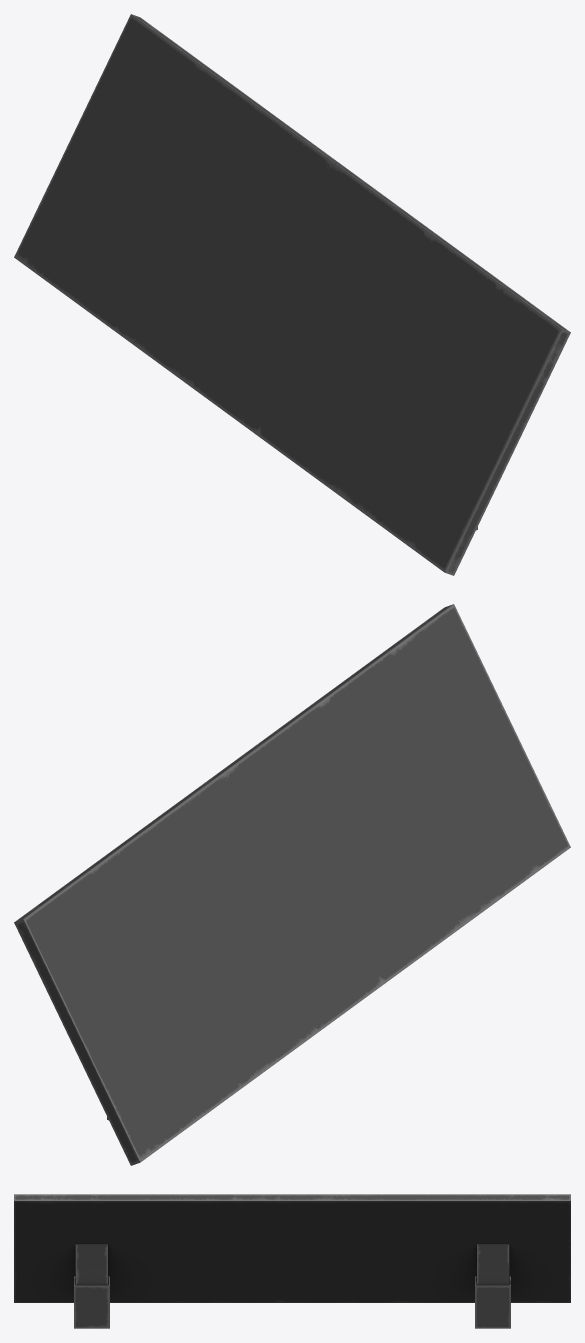
Rendered from panel.glb.
The picture shows the model from 3 angles, top to bottom: view 1: azimuth 30°, elevation 25°; view 2: azimuth 150°, elevation 25°; view 3: azimuth 270°, elevation 25°; orthographic projection. The views are drawn at different scales.
Visible parts, largest first — view 1: Cube.006; view 2: Cube.006; view 3: Cube.006.
Part boxes in pixels (box(x1,y1,x2,y2)): Cube.006: box(14, 14, 570, 575); Cube.006: box(14, 604, 570, 1165); Cube.006: box(14, 1194, 570, 1328).
Size of the model in its own units: 6.61 by 11.28 by 39.01.
Materials: 1 (1 with a texture image).
